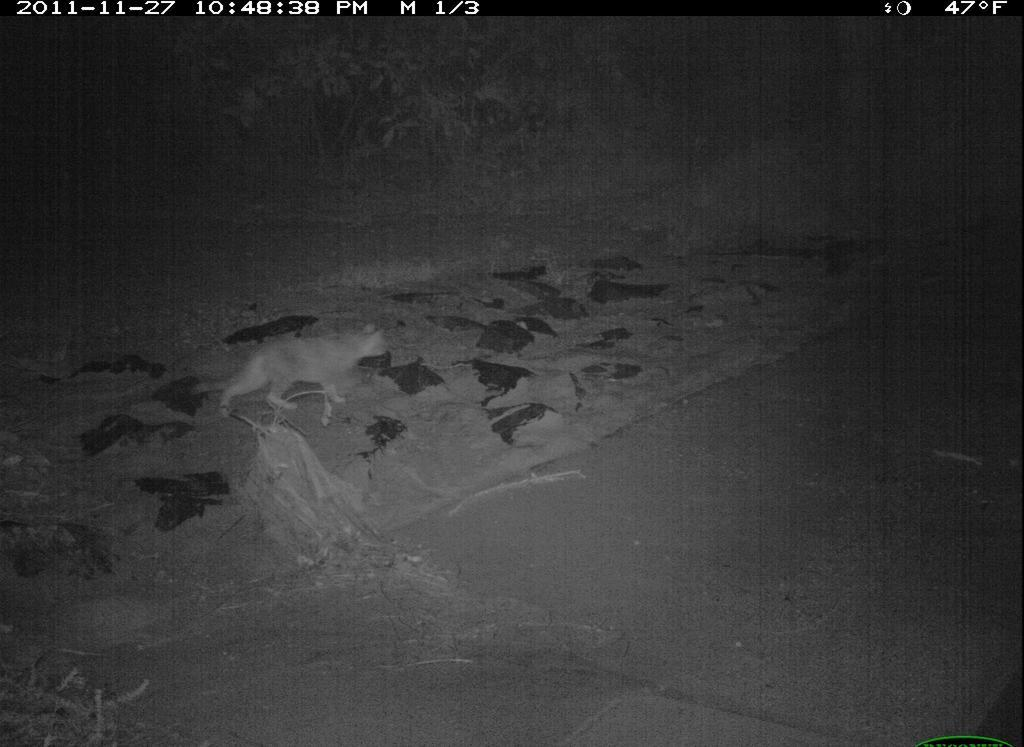cat: (187, 318, 399, 418)
